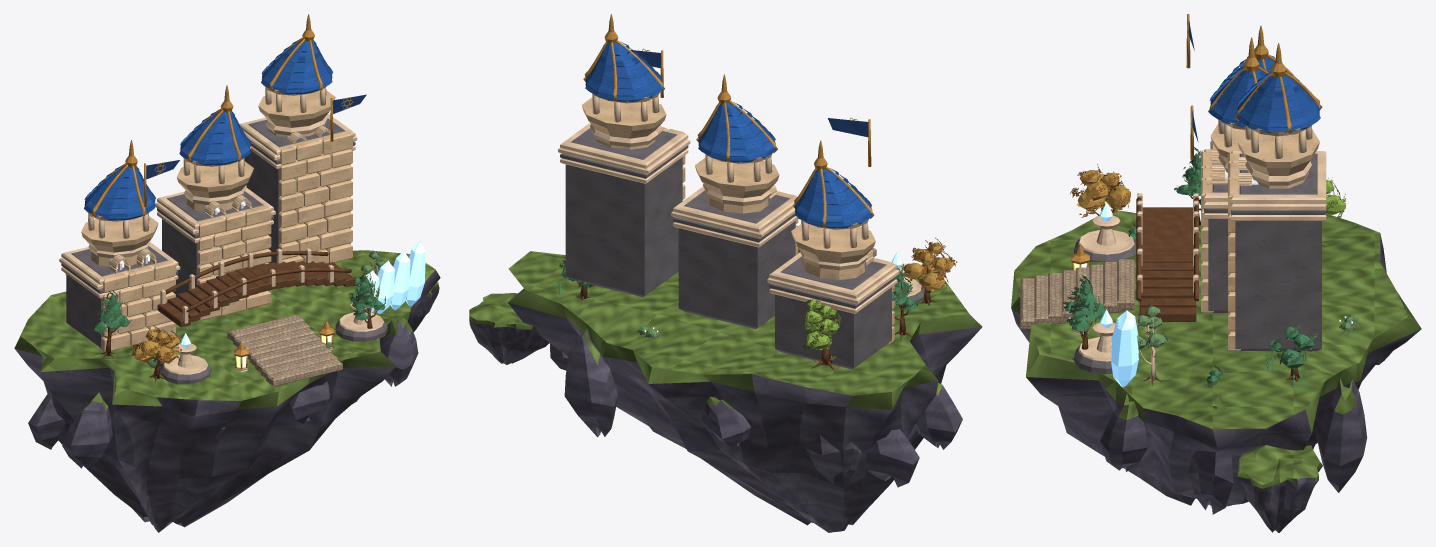
File: island-1-low.glb
The picture shows the model from 3 angles, left to right: view 1: azimuth 30°, elevation 25°; view 2: azimuth 150°, elevation 25°; view 3: azimuth 270°, elevation 25°; orthographic projection. The views are drawn at different scales.
Visible parts, largest first — view 1: Stratified cliffs and meadow / cliff, Architecture / stone, Stratified cliffs and meadow / top, Architecture / trim, Architecture / joint, Architecture / roof, Architecture / wood, Architecture / paving, Architecture / gold, Architecture / gem, Canopy oak / leaves, Canopy oak / sprays (+1 smaller); view 2: Stratified cliffs and meadow / cliff, Architecture / joint, Stratified cliffs and meadow / top, Architecture / trim, Architecture / roof, Architecture / stone, Canopy oak / leaves, Architecture / gold, Canopy oak / sprays, Architecture / wood, Architecture / cloth; view 3: Stratified cliffs and meadow / top, Stratified cliffs and meadow / cliff, Architecture / joint, Architecture / trim, Architecture / wood, Architecture / stone, Canopy oak / leaves, Architecture / roof, Architecture / paving, Canopy oak / sprays, Architecture / gold, Architecture / gem.
Boxes of the visible parts, bbox=[...] form: Stratified cliffs and meadow / cliff: bbox=[15, 269, 440, 532]; Architecture / stone: bbox=[81, 90, 352, 351]; Stratified cliffs and meadow / top: bbox=[14, 250, 439, 412]; Architecture / trim: bbox=[59, 75, 383, 374]; Architecture / joint: bbox=[61, 118, 387, 384]; Architecture / roof: bbox=[84, 39, 332, 220]; Architecture / wood: bbox=[93, 251, 385, 383]; Architecture / paving: bbox=[227, 315, 342, 386]; Architecture / gold: bbox=[91, 14, 352, 370]; Architecture / gem: bbox=[180, 241, 425, 347]; Canopy oak / leaves: bbox=[94, 252, 385, 366]; Canopy oak / sprays: bbox=[65, 251, 385, 366]; Stratified cliffs and meadow / cliff: bbox=[469, 288, 981, 532]; Architecture / joint: bbox=[560, 128, 924, 369]; Stratified cliffs and meadow / top: bbox=[469, 251, 982, 409]; Architecture / trim: bbox=[558, 82, 921, 313]; Architecture / roof: bbox=[585, 41, 872, 228]; Architecture / stone: bbox=[582, 97, 894, 361]; Canopy oak / leaves: bbox=[556, 242, 953, 359]; Architecture / gold: bbox=[583, 14, 874, 228]; Canopy oak / sprays: bbox=[559, 237, 957, 360]; Architecture / wood: bbox=[575, 218, 948, 370]; Architecture / cloth: bbox=[631, 50, 868, 137]; Stratified cliffs and meadow / top: bbox=[1011, 209, 1421, 488]; Stratified cliffs and meadow / cliff: bbox=[1011, 234, 1420, 532]; Architecture / joint: bbox=[1074, 153, 1326, 374]; Architecture / trim: bbox=[1078, 120, 1326, 380]; Architecture / wood: bbox=[1067, 166, 1341, 385]; Architecture / stone: bbox=[1201, 124, 1319, 351]; Canopy oak / leaves: bbox=[1065, 153, 1355, 388]; Architecture / roof: bbox=[1209, 55, 1320, 132]; Architecture / paving: bbox=[1020, 259, 1134, 328]; Canopy oak / sprays: bbox=[1062, 147, 1358, 386]; Architecture / gold: bbox=[1071, 14, 1322, 332]; Architecture / gem: bbox=[1100, 202, 1138, 387].
Size of the model in its own units: 6.3 by 6.63 by 4.42.
19 materials, 12 textured.
